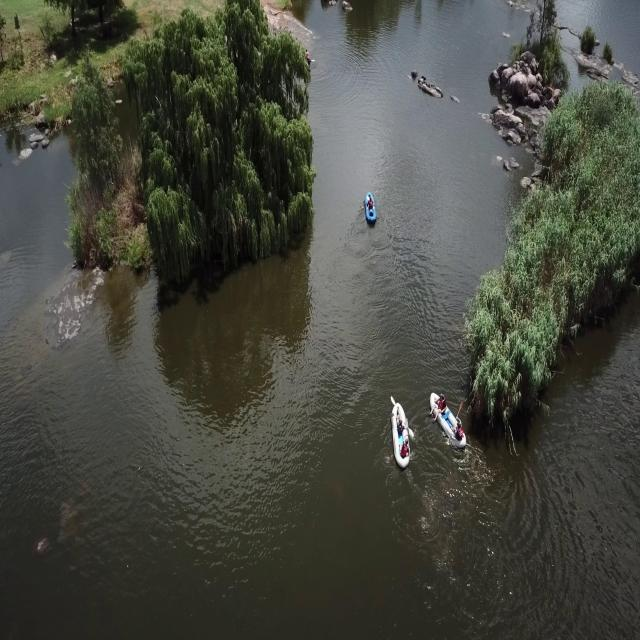kayak: (428, 394, 472, 454), (385, 400, 418, 476), (362, 189, 379, 229)
